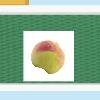half-ripe: (29, 39, 66, 74)
